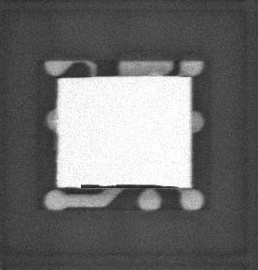DIE_BROKEN: (79, 182, 179, 189)
